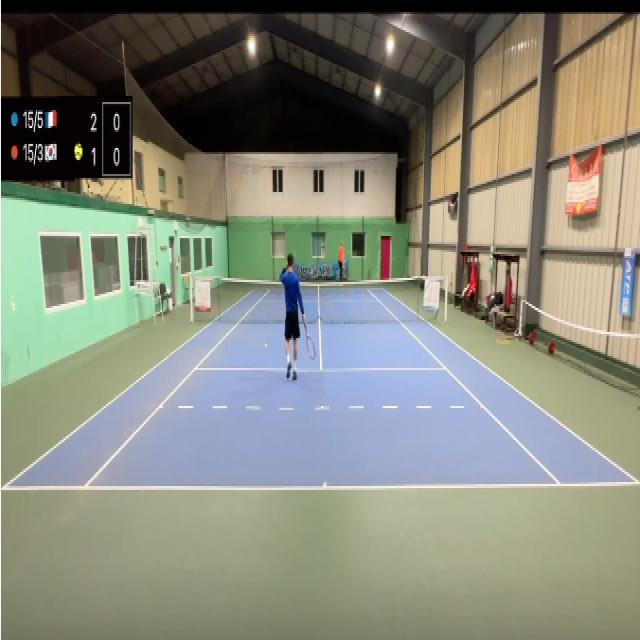ball: (264, 340, 268, 350)
